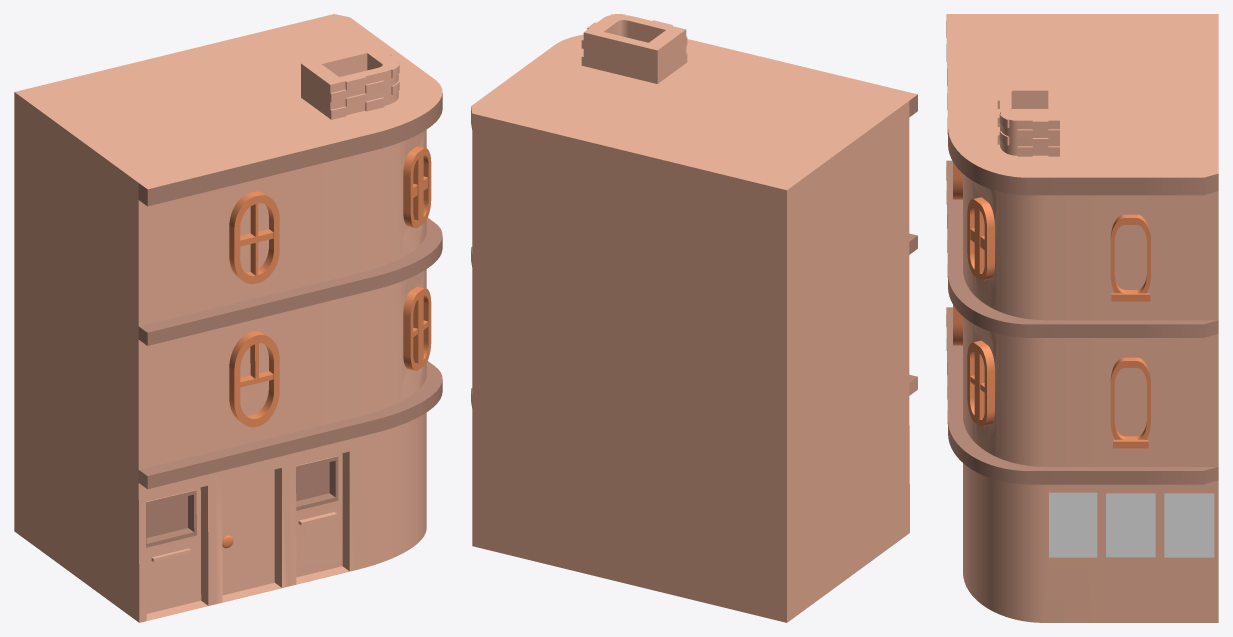
3 views of the same model, side by side, from view 1: azimuth 30°, elevation 25°; view 2: azimuth 150°, elevation 25°; view 3: azimuth 270°, elevation 25° (orthographic). The views are drawn at different scales.
Visible parts, largest first — view 1: B1; view 2: B1; view 3: B1.
Boxes of the visible parts, left/top/right/bottom form: B1: left=14, top=14, right=442, bottom=622; B1: left=471, top=14, right=917, bottom=622; B1: left=946, top=14, right=1218, bottom=622.
Size of the model in its own units: 10938 by 14977 by 7627.
